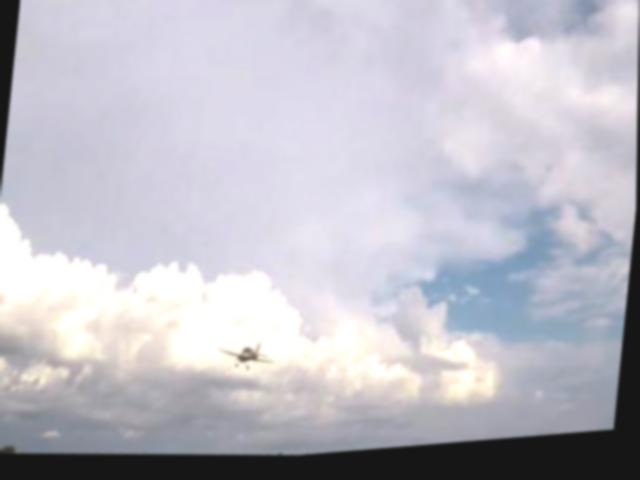uav: (212, 328, 274, 387)
